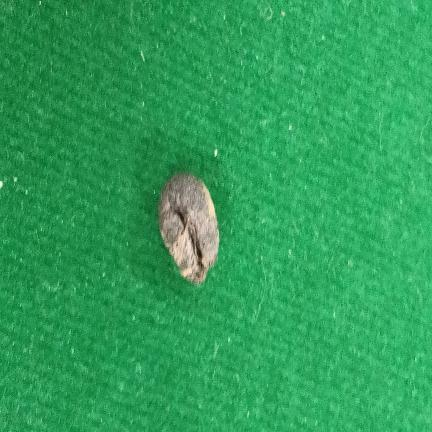partial-black: (158, 173, 219, 284)
